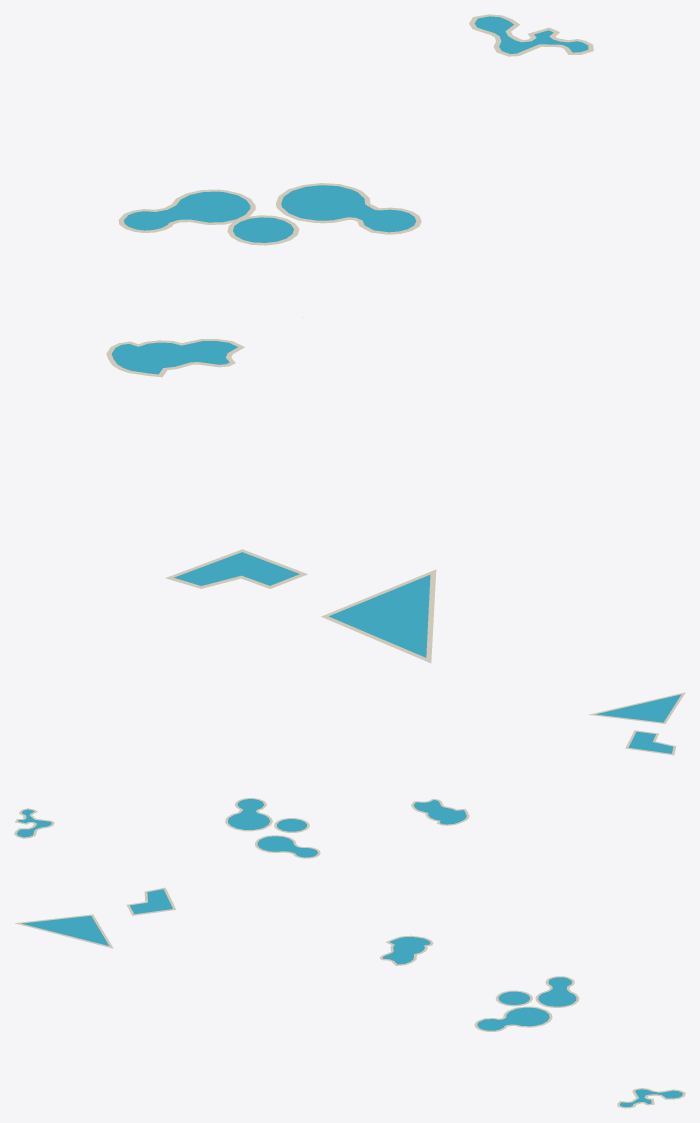
File: pbpool_m24_m8.glb
3 views of the same model, one above another, from view 1: azimuth 30°, elevation 25°; view 2: azimuth 150°, elevation 25°; view 3: azimuth 270°, elevation 25° (orthographic). The views are drawn at different scales.
Visible parts, largest first — view 1: pbpool_m24_m8_lod0; view 2: pbpool_m24_m8_lod0; view 3: pbpool_m24_m8_lod0.
Part boxes in pixels (x1,y1,x2,y2): pbpool_m24_m8_lod0: [106, 14, 593, 663]; pbpool_m24_m8_lod0: [14, 692, 685, 858]; pbpool_m24_m8_lod0: [15, 887, 685, 1108].
Size of what is drawn, in the model's own units: 242 by 2.65 by 310.
